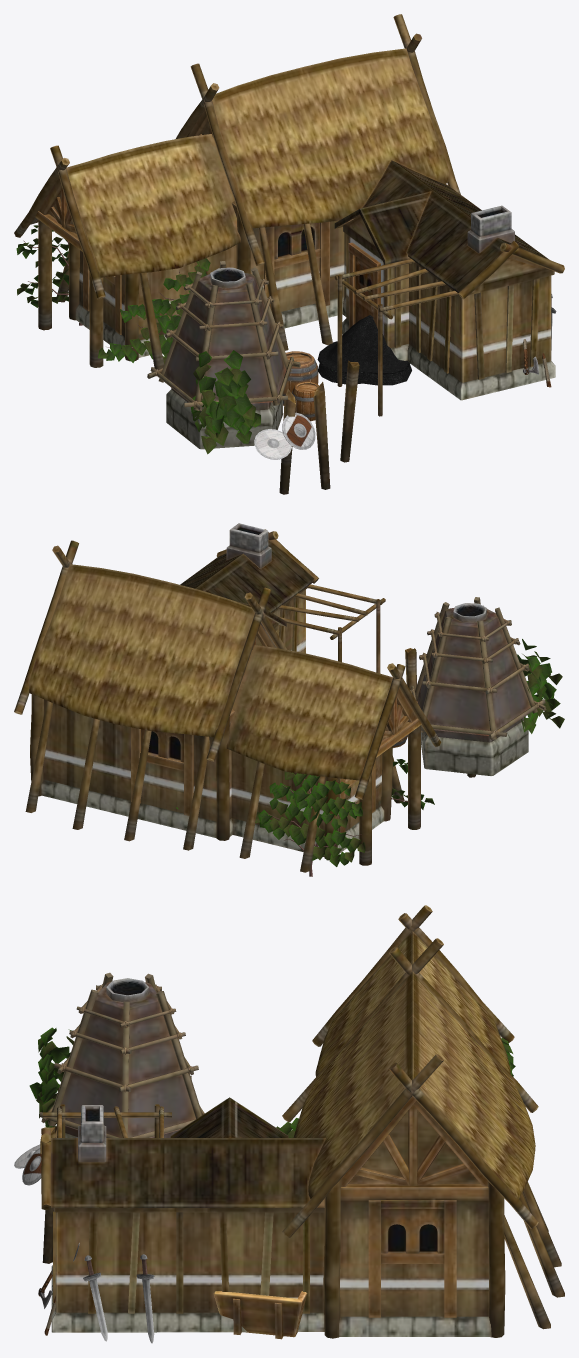
Rendered from 29-armory.glb.
The picture shows the model from 3 angles, top to bottom: view 1: azimuth 30°, elevation 25°; view 2: azimuth 150°, elevation 25°; view 3: azimuth 270°, elevation 25°; orthographic projection. The views are drawn at different scales.
Bounding box in the file's own units: 8.2 × 6.1 × 8.85.
Materials: 12 (11 with a texture image).
